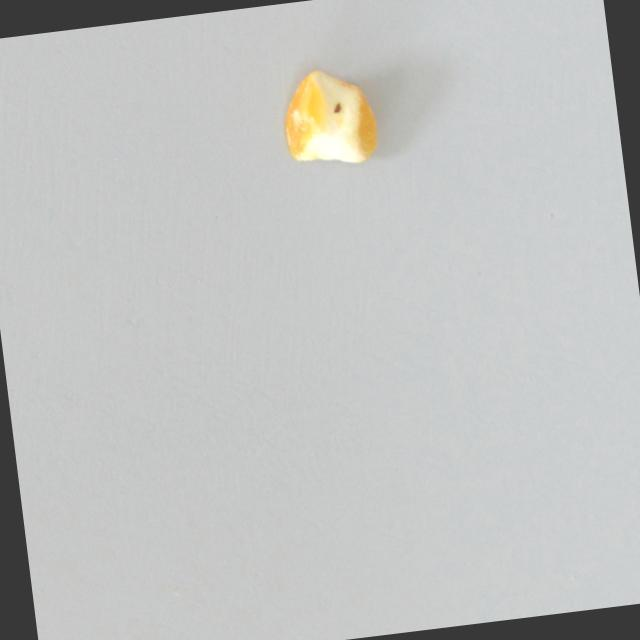punto_negro: (276, 61, 385, 174)
